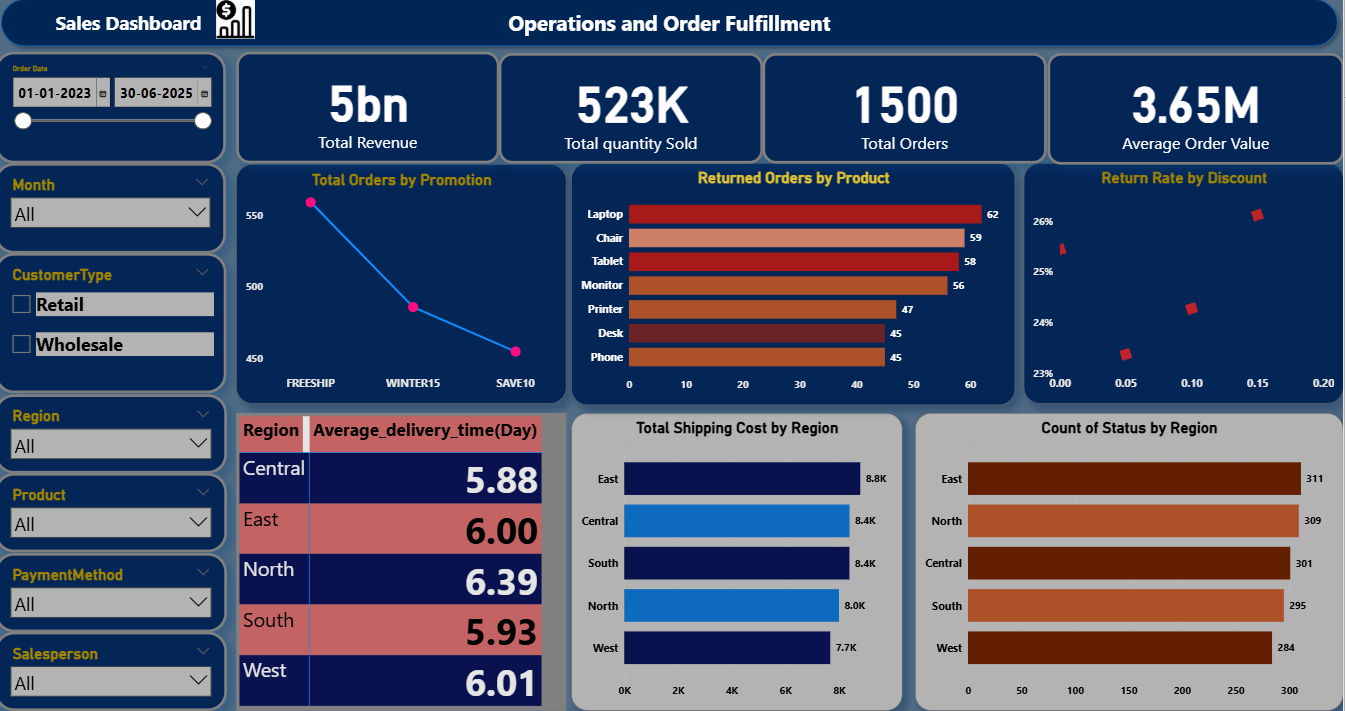

The page's visual inventory and layout, read from the dashboard file:
{"tool":"powerbi","page":{"name":"Operations and Order Fulfillment","canvas":[2000,1065],"ordinal":4},"visuals":[{"type":"shape","box":[0,0,2000.4,87.9],"z":0},{"type":"slicer","fields":{"Values":["Sales Dump.Order Date"]},"box":[0,86.5,342.2,165.6],"z":1000},{"type":"slicer","fields":{"Values":["Sales Dump.Order Date.Variation.Date Hierarchy.Month"]},"box":[0,252.1,342.2,134.3],"z":2000},{"type":"slicer","fields":{"Values":["Sales Dump.CustomerType"]},"box":[0,385.9,343.1,208],"z":3000},{"type":"slicer","fields":{"Values":["Sales Dump.Region"]},"box":[0,594.3,344.1,117.8],"z":4000},{"type":"slicer","fields":{"Values":["Sales Dump.Product"]},"box":[0,712.1,344.1,117.8],"z":5000},{"type":"slicer","fields":{"Values":["Sales Dump.PaymentMethod"]},"box":[0,829.9,344.1,117.8],"z":6000},{"type":"slicer","fields":{"Values":["Sales Dump.Salesperson"]},"box":[0,947.2,344.1,117.8],"z":7000},{"type":"lineChart","title":"Total Orders by Promotion","fields":{"Y":["Sales Dump.Total Orders"],"Category":["Sales Dump.Promotion"]},"box":[357,253.9,489.4,355.1],"z":8000},{"type":"pivotTable","fields":{"Rows":["Sales Dump.Region"],"Values":["Sales Dump.Average_delivery_time(Day)"]},"box":[357,623.8,489.4,441.6],"z":9000},{"type":"clusteredBarChart","title":"Total Shipping Cost by Region","fields":{"Y":["Sum(Sales Dump.ShippingCost)"],"Category":["Sales Dump.Region"]},"box":[853.8,623.8,491.3,441.6],"z":10000},{"type":"clusteredBarChart","title":"Returned Orders by Product","fields":{"Y":["Sales Dump.Returned_Orders"],"Category":["Sales Dump.Product"]},"box":[853.8,252.1,658.7,358.8],"z":11000},{"type":"scatterChart","title":"Return Rate by Discount","fields":{"Y":["Sales Dump.Return_Rate"],"X":["Sales Dump.Discount"]},"box":[1525.4,252.1,474.7,357],"z":12000},{"type":"clusteredBarChart","fields":{"Y":["CountNonNull(Sales Dump.Status)"],"Category":["Sales Dump.Region"]},"box":[1365.3,623.8,634.8,441.6],"z":13000},{"type":"card","fields":{"Values":["Sum(Sales Dump.TotalPrice)"]},"box":[357,86.5,390.1,165.6],"z":14000},{"type":"card","fields":{"Values":["Sum(Sales Dump.Quantity)"]},"box":[747,88.3,391.9,163.8],"z":15000},{"type":"card","fields":{"Values":["Sales Dump.Total Orders"]},"box":[1139,88.3,421.4,163.8],"z":16000},{"type":"card","fields":{"Values":["Sales Dump.Average_Order_Value"]},"box":[1560.3,88.3,439.8,165.6],"z":17000},{"type":"actionButton","box":[41.8,12.7,310.7,61.8],"z":18000},{"type":"image","box":[321.6,5.5,72.7,67.2],"z":19000}]}

Visuals, with their boxes in screenshot pixels (x1, y1, x2, y2), scaled from the page's 2000x1065 canvas onto the 1346x711 screenshot:
shape: x1=0 y1=0 x2=1345 y2=59
slicer - Sales Dump.Order Date: x1=0 y1=58 x2=230 y2=168
slicer - Sales Dump.Order Date.Variation.Date Hierarchy.Month: x1=0 y1=168 x2=230 y2=258
slicer - Sales Dump.CustomerType: x1=0 y1=258 x2=231 y2=396
slicer - Sales Dump.Region: x1=0 y1=397 x2=232 y2=475
slicer - Sales Dump.Product: x1=0 y1=475 x2=232 y2=554
slicer - Sales Dump.PaymentMethod: x1=0 y1=554 x2=232 y2=633
slicer - Sales Dump.Salesperson: x1=0 y1=632 x2=232 y2=710
"Total Orders by Promotion" lineChart: x1=240 y1=170 x2=570 y2=407
pivotTable - Sales Dump.Region x Sales Dump.Average_delivery_time(Day): x1=240 y1=416 x2=570 y2=710
"Total Shipping Cost by Region" clusteredBarChart: x1=575 y1=416 x2=905 y2=710
"Returned Orders by Product" clusteredBarChart: x1=575 y1=168 x2=1018 y2=408
"Return Rate by Discount" scatterChart: x1=1027 y1=168 x2=1345 y2=407
clusteredBarChart - CountNonNull(Sales Dump.Status) x Sales Dump.Region: x1=919 y1=416 x2=1345 y2=710
card - Sum(Sales Dump.TotalPrice): x1=240 y1=58 x2=503 y2=168
card - Sum(Sales Dump.Quantity): x1=503 y1=59 x2=766 y2=168
card - Sales Dump.Total Orders: x1=767 y1=59 x2=1050 y2=168
card - Sales Dump.Average_Order_Value: x1=1050 y1=59 x2=1345 y2=170
actionButton: x1=28 y1=8 x2=237 y2=50
image: x1=216 y1=4 x2=265 y2=49
